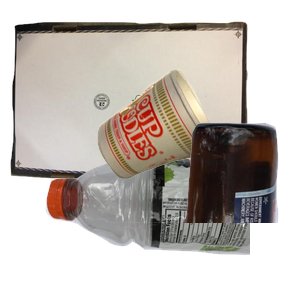cardboard: (10, 19, 250, 199)
glass: (87, 120, 300, 300)
plastic: (43, 152, 283, 300)
trash: (95, 67, 300, 238)
